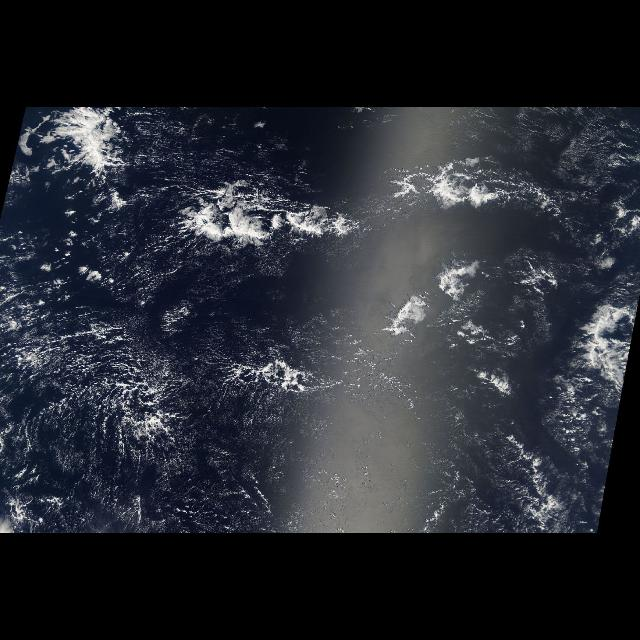Fish: (152, 148, 574, 248)
Sugar: (1, 287, 360, 533)
